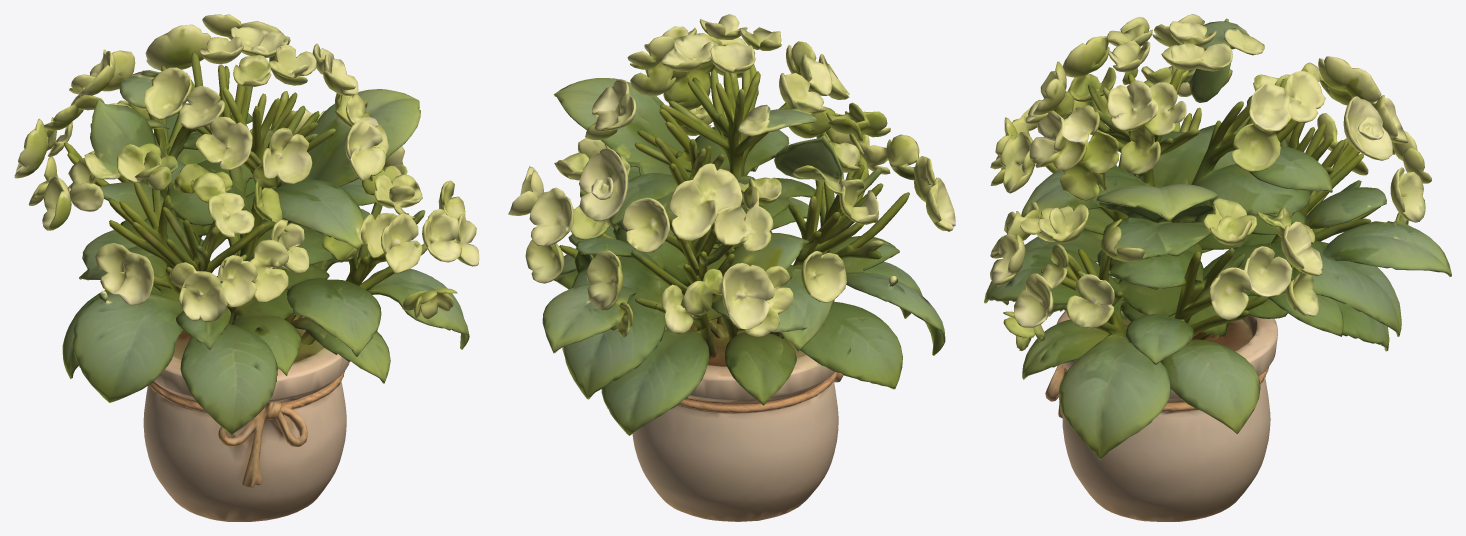
The model's file is flower_one.glb.
3 renders of one model, left to right at view 1: azimuth 30°, elevation 25°; view 2: azimuth 150°, elevation 25°; view 3: azimuth 270°, elevation 25°, orthographic. The views are drawn at different scales.
Parts seen in each view (by area): view 1: node_0; view 2: node_0; view 3: node_0.
Boxes of the visible parts, bbox=[...] form: node_0: bbox=[14, 14, 479, 521]; node_0: bbox=[508, 14, 955, 521]; node_0: bbox=[984, 14, 1451, 521].
Size of the model in its own units: 0.9627 by 1.08 by 0.9903.
1 material, 1 textured.
